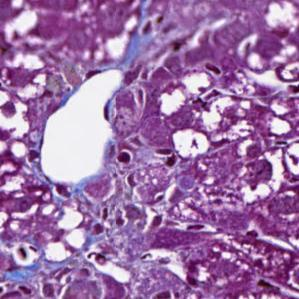inflammation: (111, 142, 139, 170)
